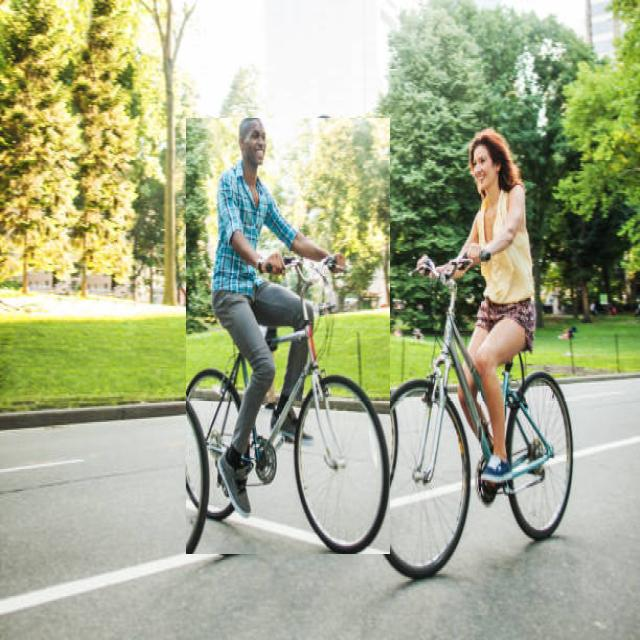bicycle: (369, 128, 572, 578), (186, 118, 390, 554)
